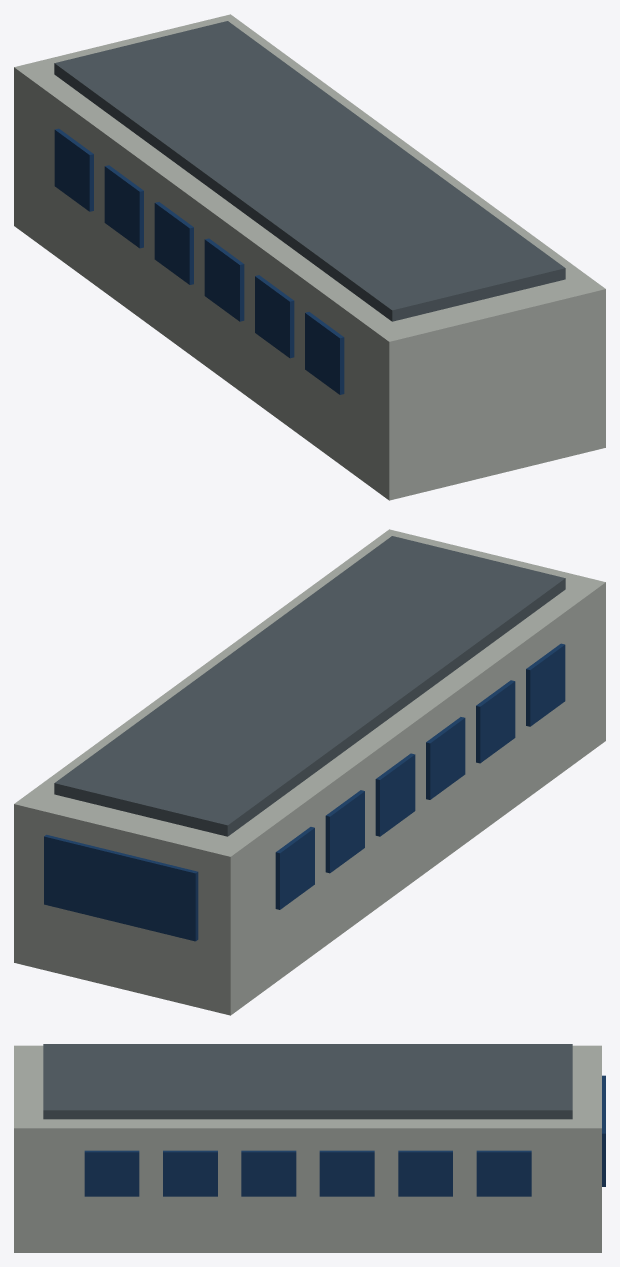
The model's file is cab.glb.
3 views of the same model, one above another, from view 1: azimuth 30°, elevation 25°; view 2: azimuth 150°, elevation 25°; view 3: azimuth 270°, elevation 25° (orthographic). The views are drawn at different scales.
Visible parts, largest first — view 1: cab; view 2: cab; view 3: cab.
Boxes of the visible parts, box(x1,y1,x2,y2) form: cab: box(14, 14, 605, 500); cab: box(14, 529, 605, 1015); cab: box(14, 1044, 605, 1252).
Size of the model in its own units: 10.4 by 7.55 by 30.2.
